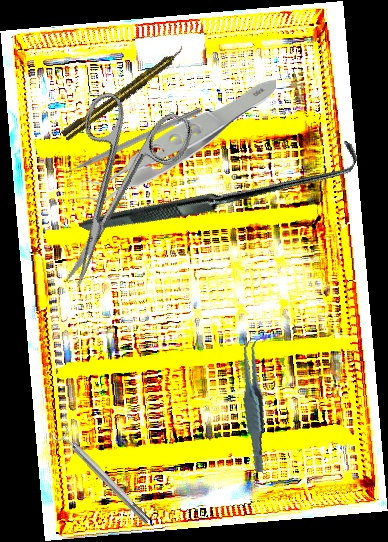Chopper: (51, 98, 203, 181)
Fixation Ring: (49, 421, 155, 530)
Handpiece: (60, 43, 188, 143)
Hook Surgical: (79, 49, 363, 327)
Iris Scissors: (20, 81, 198, 305)
Tissue Forceps: (69, 79, 276, 201), (224, 337, 285, 473)
